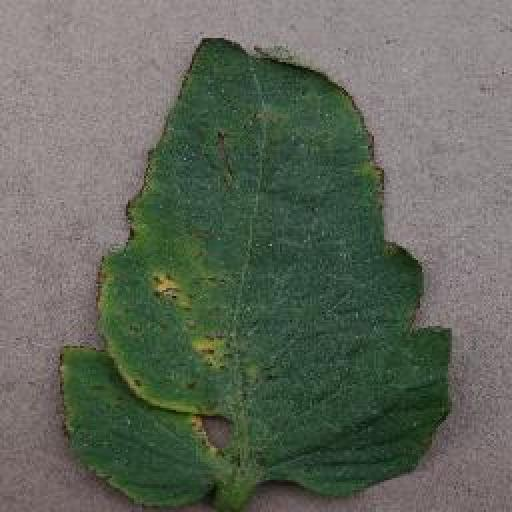Bacterial Spot: (54, 33, 458, 512)
